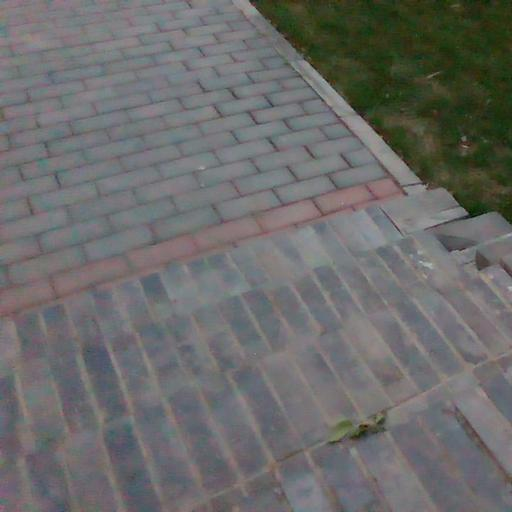stairs: (0, 190, 511, 511)
